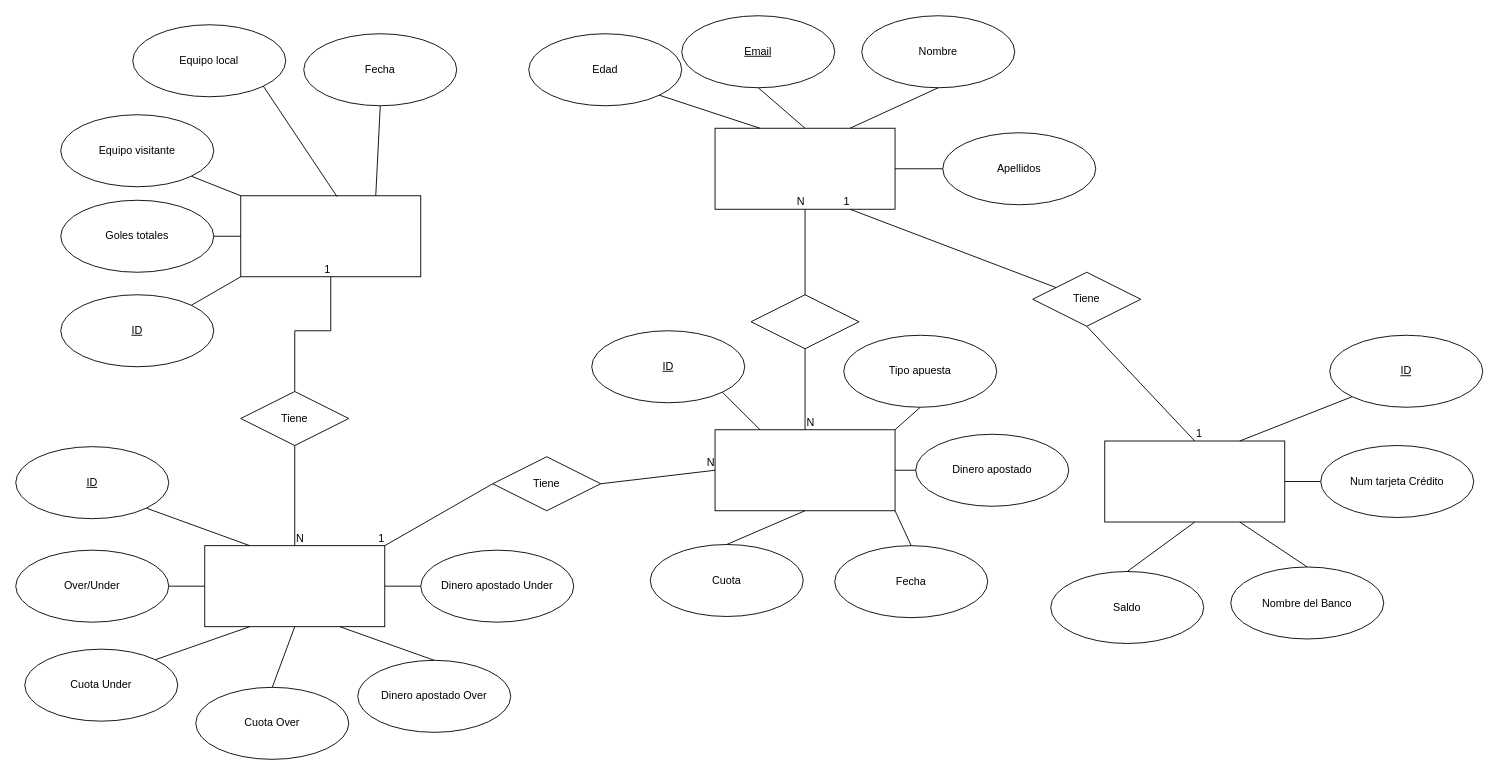
Some shapes in this 1499 by 776 pixel diagram are drawn without their labels. The shapes that lost their labels are listed below. From the top down, each one's centre as x and y in pixels, then its label:
At [804,168]: "Usuario".
At [330,236]: "Evento".
At [804,321]: "Hace".
At [804,470]: "Apuesta".
At [1194,481]: "Cuenta bancaria".
At [294,586]: "Mercado".
